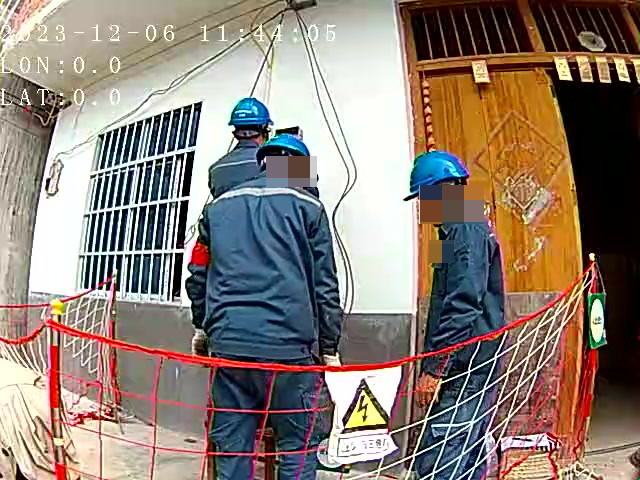badge: (187, 242, 207, 266)
downsuit: (209, 363, 329, 480), (420, 375, 492, 479)
halt: (407, 151, 473, 222), (257, 135, 316, 189), (229, 98, 273, 148)
hand: (413, 372, 444, 407)
inear: (430, 180, 461, 213), (282, 155, 306, 184)
intosign: (585, 291, 608, 349)
person: (201, 131, 343, 479), (399, 149, 514, 480), (197, 95, 280, 186)
upsuit: (196, 172, 339, 348), (422, 210, 507, 340)
wglove: (189, 327, 209, 355), (319, 352, 344, 369)
